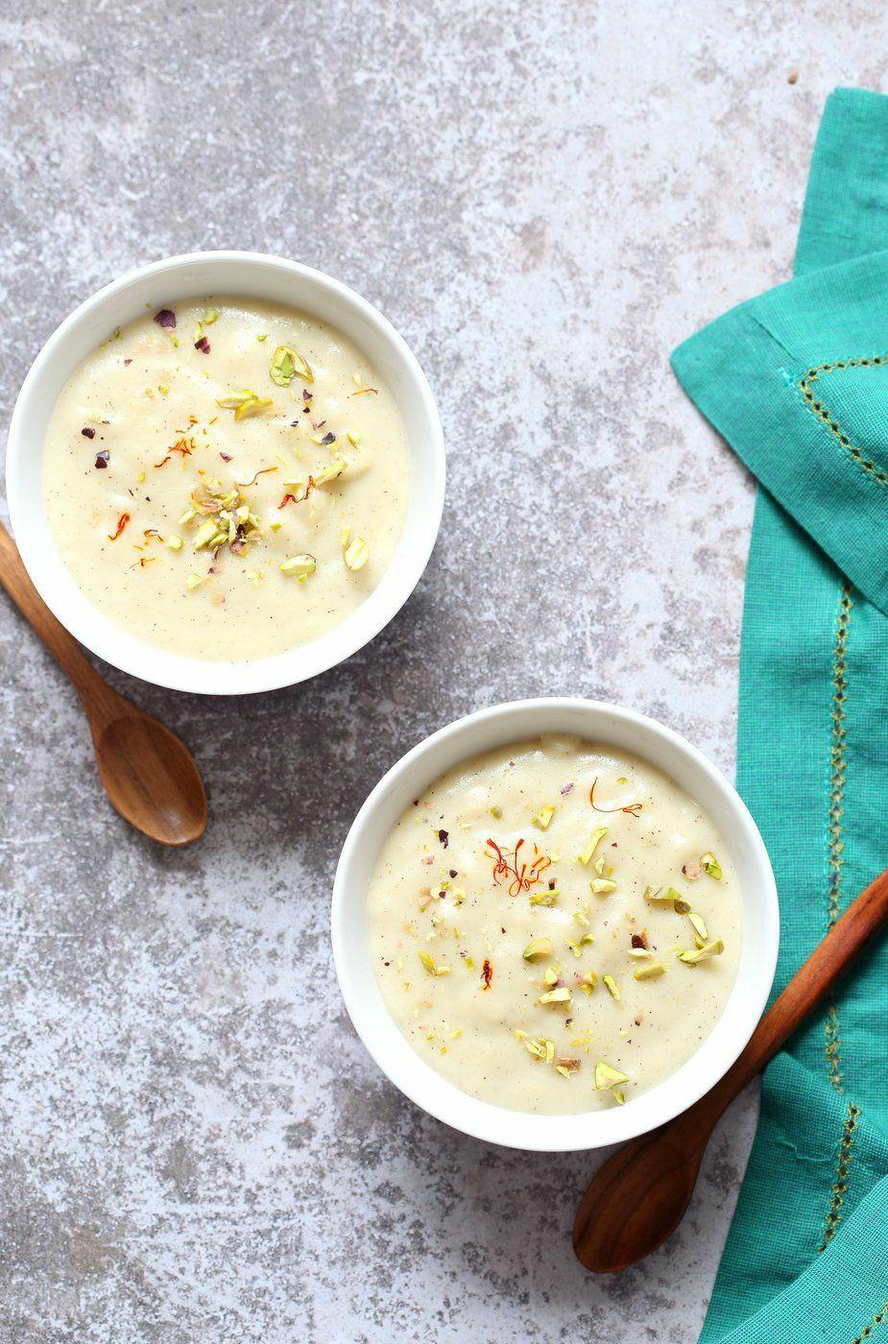Kheer: (364, 745, 749, 1119), (34, 296, 417, 667)
